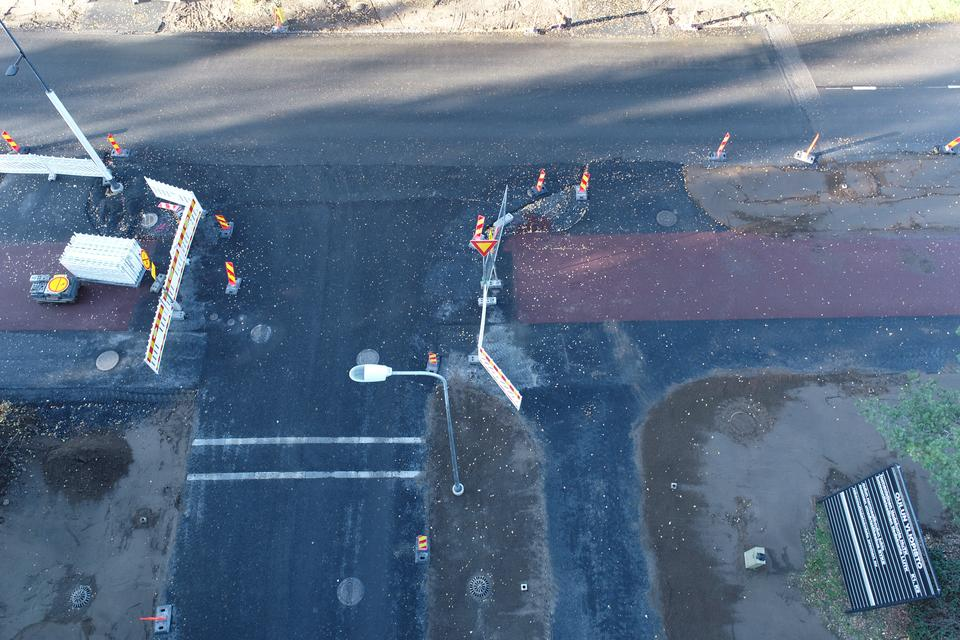intersection: (143, 0, 692, 456)
